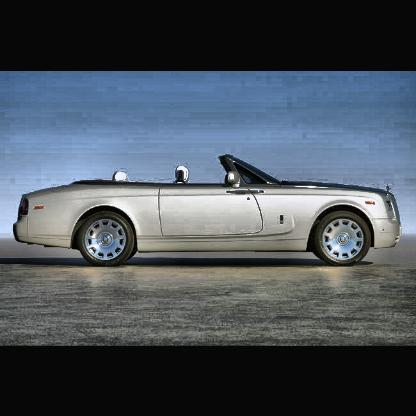Rolls-Royce Phantom Drophead Coupe Convertible 2012: (14, 155, 402, 266)
